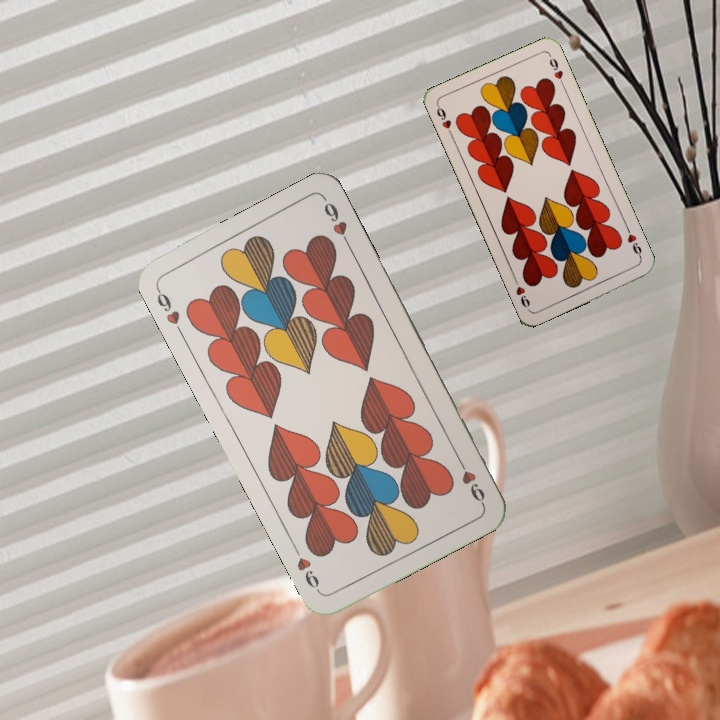H9: (453, 453, 488, 507), (152, 283, 186, 338), (622, 223, 645, 262), (432, 101, 455, 139)
